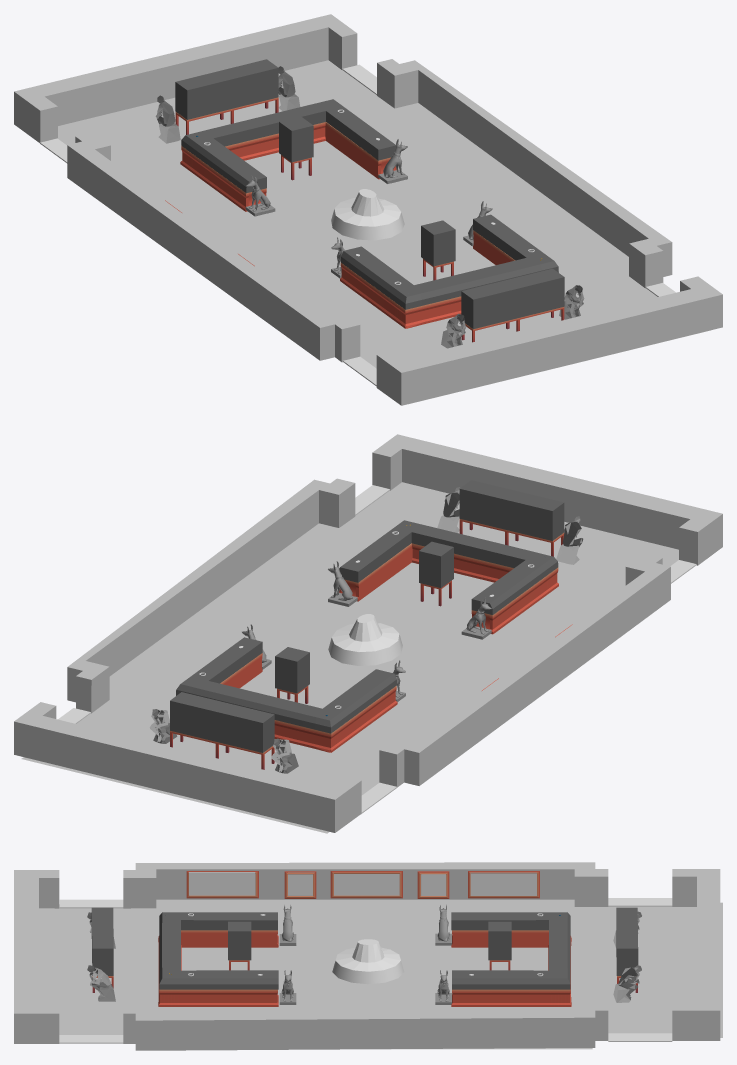
Rendered from level2.FBX.
3 renders of one model, top to bottom at view 1: azimuth 30°, elevation 25°; view 2: azimuth 150°, elevation 25°; view 3: azimuth 270°, elevation 25°, orthographic. The views are drawn at different scales.
Parts seen in each view (by area): view 1: Walls, Floor, Glass022, Glass024, Glass023, Glass016, Showcasedown012, Showcasedown006, Cylinder014, Glass025, Glass, polySurface004 (+2 smaller); view 2: Walls, Floor, Glass024, Glass022, Glass016, Glass023, Showcasedown006, Showcasedown012, Cylinder014, Glass, Glass025, polySurface005 (+3 smaller); view 3: Floor, Walls, Glass024, Glass022, Showcasedown006, Showcasedown012, Cylinder014, Box033, Box034, Glass016, Box032, Glass023 (+19 smaller).
Boxes of the visible parts, x1=… form: Walls: x1=14, y1=14, x2=722, y2=405; Floor: x1=58, y1=60, x2=710, y2=404; Glass022: x1=341, y1=214, x2=558, y2=309; Glass024: x1=181, y1=99, x2=396, y2=193; Glass023: x1=175, y1=59, x2=278, y2=119; Glass016: x1=461, y1=268, x2=564, y2=329; Showcasedown012: x1=180, y1=122, x2=396, y2=211; Showcasedown006: x1=340, y1=230, x2=514, y2=328; Cylinder014: x1=331, y1=189, x2=404, y2=240; Glass025: x1=279, y1=116, x2=313, y2=162; Glass: x1=421, y1=220, x2=455, y2=266; polySurface004: x1=155, y1=95, x2=180, y2=143; Walls: x1=14, y1=434, x2=722, y2=832; Floor: x1=21, y1=482, x2=678, y2=833; Glass024: x1=176, y1=637, x2=396, y2=733; Glass022: x1=339, y1=520, x2=558, y2=614; Glass016: x1=459, y1=480, x2=564, y2=540; Glass023: x1=170, y1=692, x2=274, y2=752; Showcasedown006: x1=339, y1=543, x2=558, y2=634; Showcasedown012: x1=220, y1=653, x2=397, y2=752; Cylinder014: x1=328, y1=614, x2=402, y2=665; Glass: x1=419, y1=541, x2=453, y2=587; Glass025: x1=275, y1=647, x2=309, y2=693; polySurface005: x1=556, y1=516, x2=583, y2=564; Floor: x1=39, y1=899, x2=722, y2=1049; Walls: x1=14, y1=862, x2=720, y2=1050; Glass024: x1=451, y1=912, x2=570, y2=989; Glass022: x1=159, y1=912, x2=278, y2=989; Showcasedown006: x1=158, y1=930, x2=278, y2=1006; Showcasedown012: x1=451, y1=930, x2=571, y2=1006; Cylinder014: x1=332, y1=939, x2=404, y2=984; Box033: x1=470, y1=872, x2=536, y2=895; Box034: x1=189, y1=872, x2=255, y2=895; Glass016: x1=91, y1=907, x2=113, y2=975; Box032: x1=334, y1=874, x2=399, y2=895; Glass023: x1=616, y1=907, x2=638, y2=975.
Size of the model in its own units: 28123 by 3865 by 53165.
